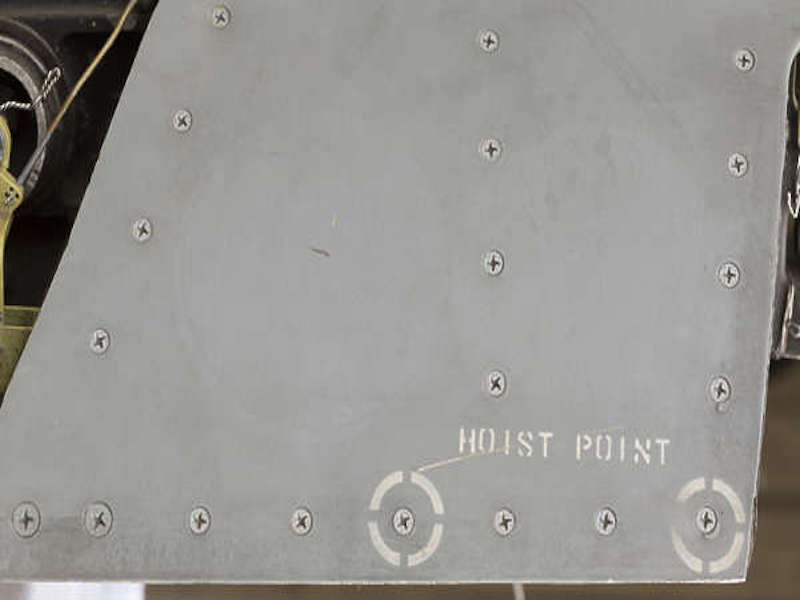screw: (11, 499, 43, 540), (83, 499, 115, 538), (492, 503, 517, 538), (392, 504, 416, 538), (595, 504, 619, 537), (695, 504, 718, 538), (289, 505, 313, 536), (189, 505, 211, 537), (708, 375, 732, 404), (479, 137, 503, 164), (726, 152, 749, 180), (733, 48, 757, 74), (718, 262, 740, 290), (90, 327, 111, 356), (133, 216, 154, 244), (483, 250, 505, 276), (486, 371, 507, 398), (478, 29, 499, 54), (211, 5, 231, 31), (173, 109, 193, 134)
